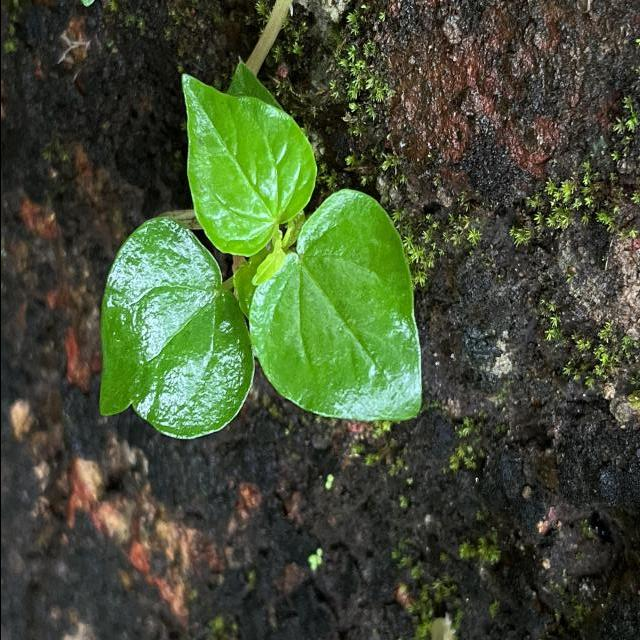Peperomia pellucida: (246, 188, 423, 424), (96, 215, 256, 442), (179, 72, 317, 258)
